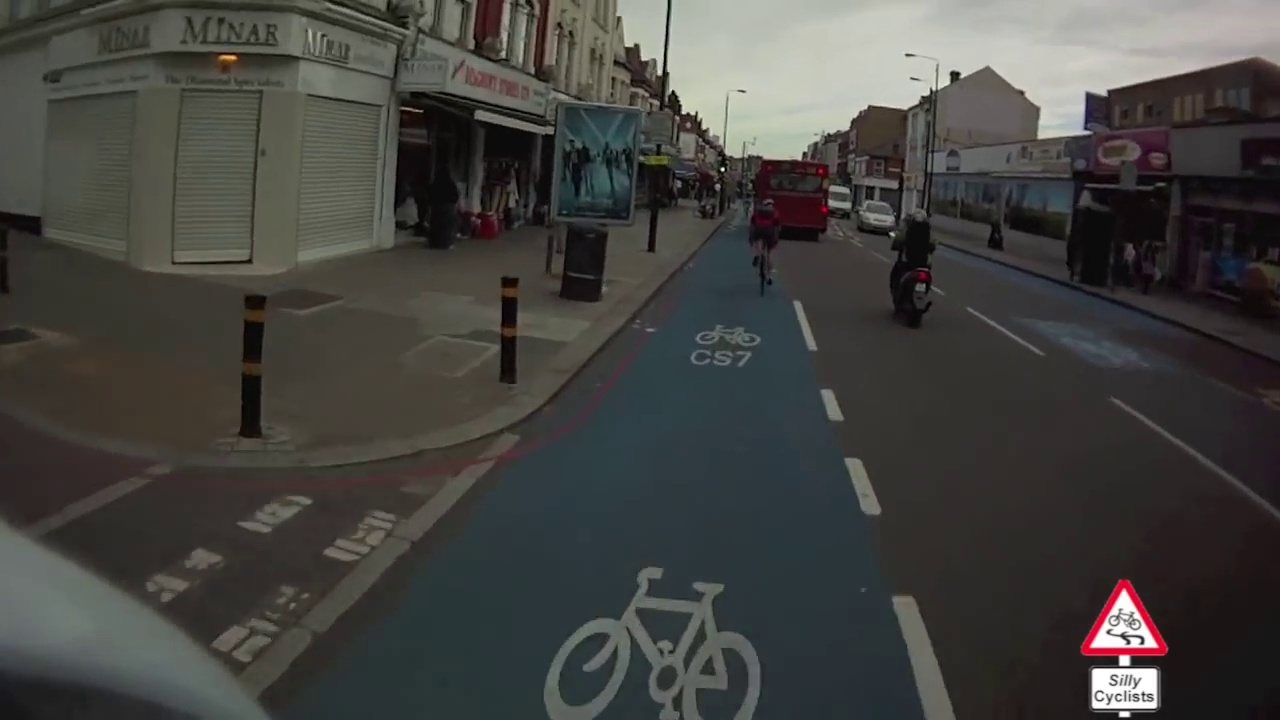cyclist_back: (881, 200, 941, 335), (746, 189, 784, 300)
